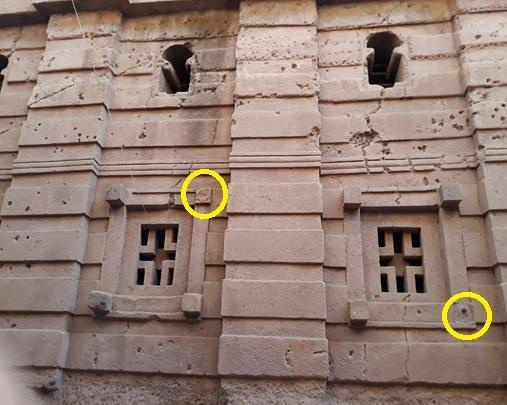crack: (366, 89, 391, 122)
